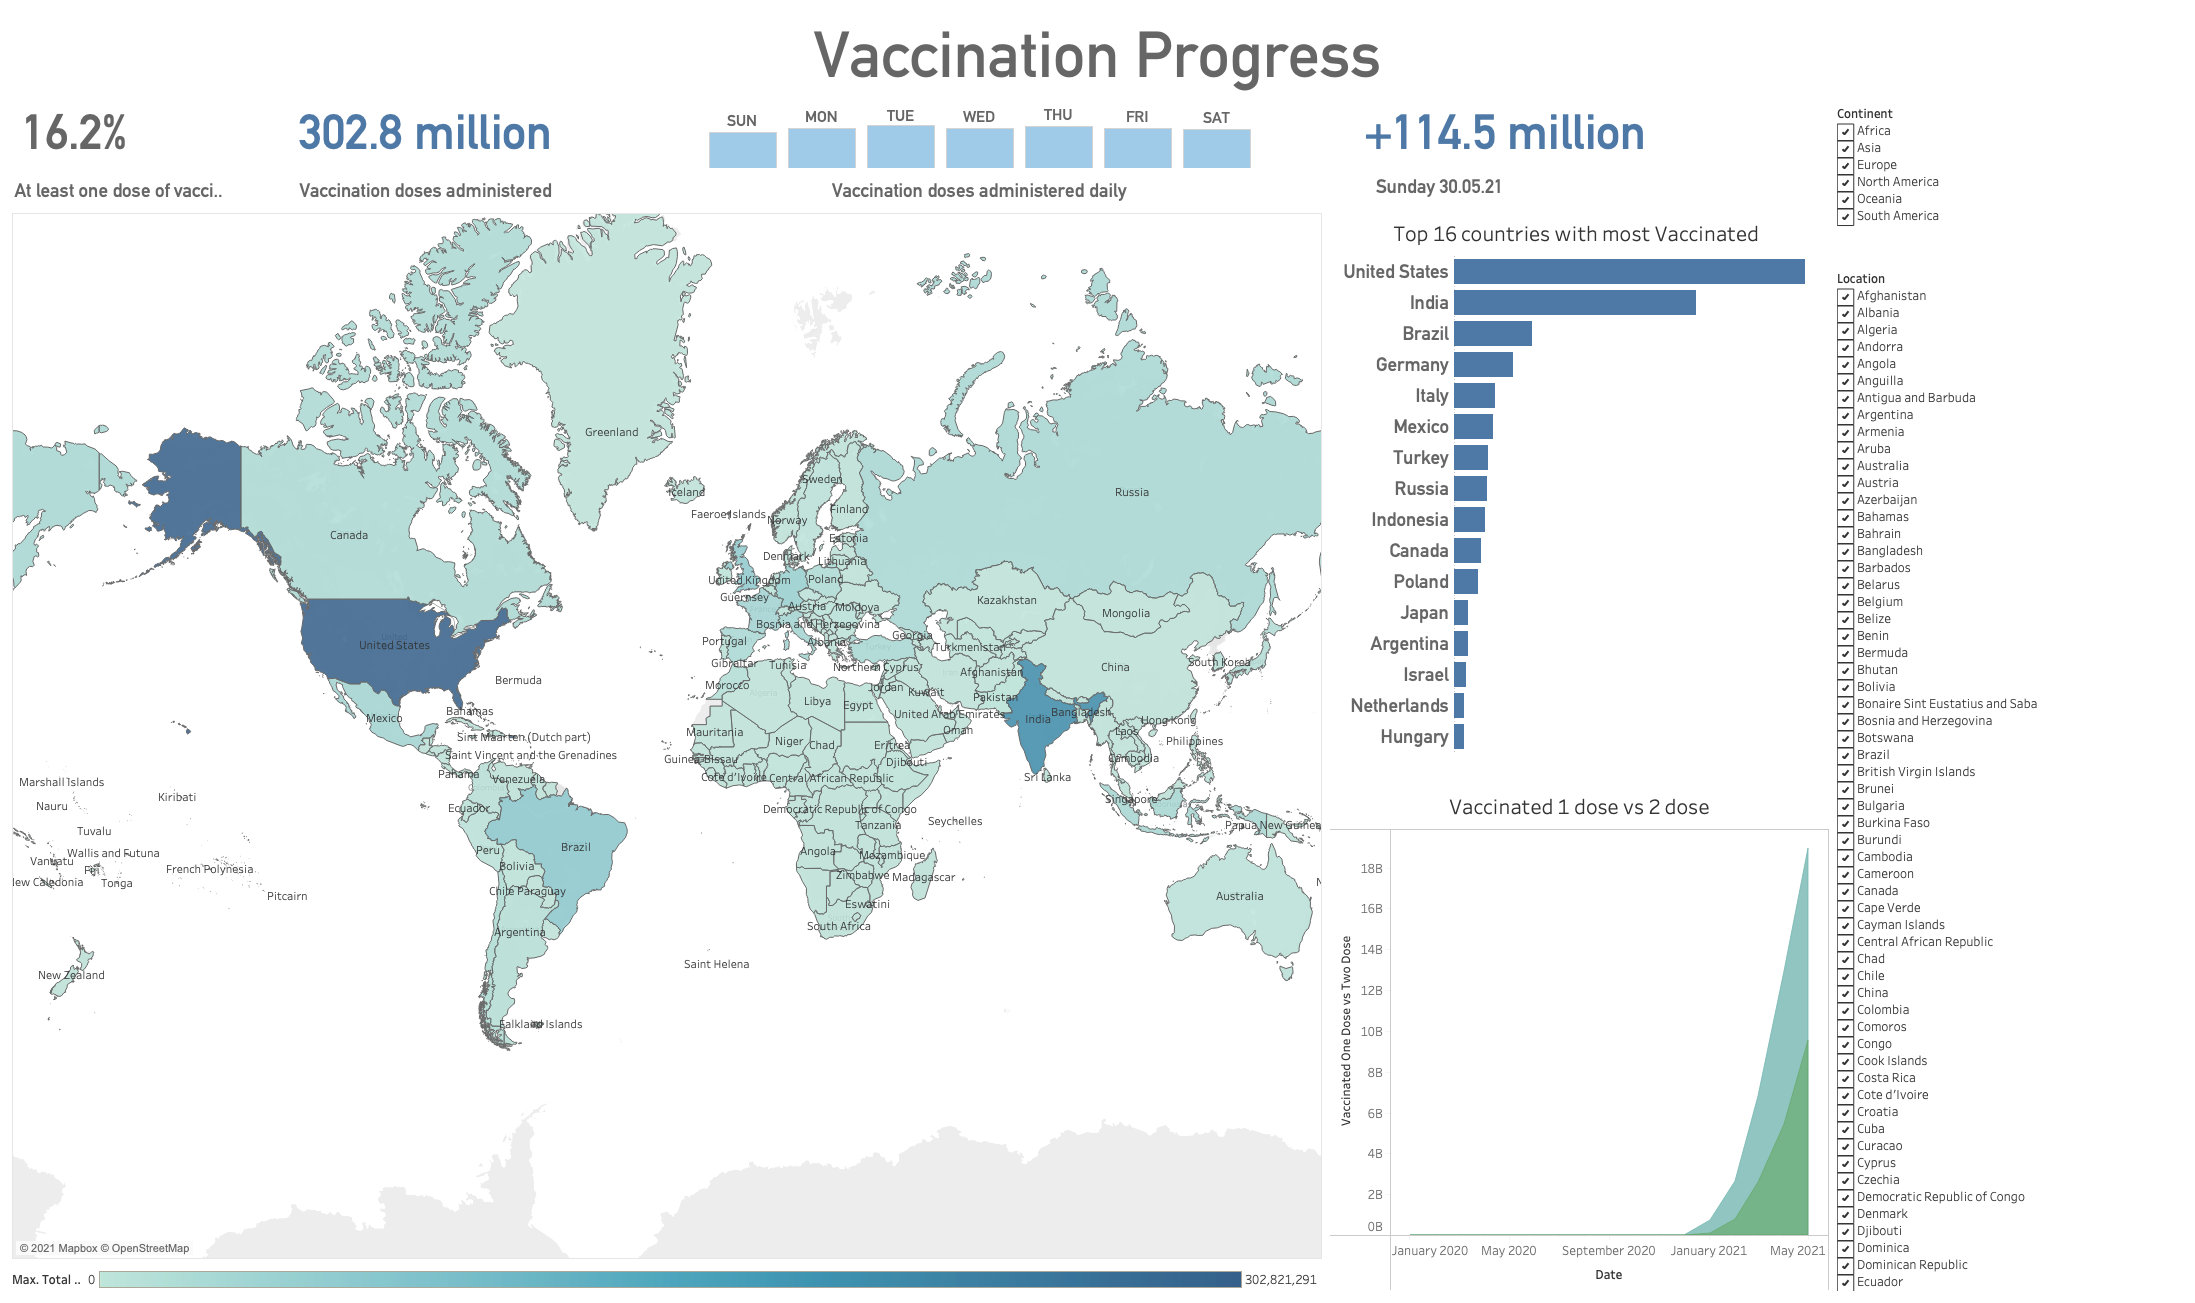

What the dashboard file says about the page in this screenshot:
{"tool":"tableau","page":{"name":"Dashboard 1","canvas":[1000,1000],"units":"permille","ordinal":0},"visuals":[{"type":"worksheet","box":[0,0,1000,1000]},{"type":"worksheet","box":[3.6,6.1,992.7,70.6]},{"type":"worksheet","param":"vert","box":[3.6,76.8,992.7,917.1]},{"type":"worksheet","box":[3.6,76.8,992.7,917.1]},{"type":"worksheet","param":"horz","box":[3.6,76.8,831.6,917.1]},{"type":"worksheet","box":[3.6,76.8,831.6,917.1]},{"type":"worksheet","title":"One Dose %","mark":"Automatic","box":[3.6,76.8,84.4,55.2]},{"type":"worksheet","box":[88.1,76.8,36.5,55.2]},{"type":"worksheet","title":"Total Doses Administered","mark":"Automatic","box":[124.6,76.8,194,55.2]},{"type":"worksheet","title":"Doses Administered Daily (1 week)","mark":"Automatic","rows":["total_vaccinated"],"cols":["week_day"],"box":[318.5,76.8,255.5,55.2]},{"type":"worksheet","box":[574.1,76.8,39.6,55.2]},{"type":"worksheet","title":"Newly vaccinated","mark":"Automatic","box":[613.7,76.8,221.6,55.2]},{"type":"worksheet","param":"vert","box":[835.2,76.8,161.1,917.1]},{"type":"worksheet","title":"Total Doses Administered","mark":"Automatic","param":"[federated.0aoevrx14gdg4c1c4bs981v7try1].[none:continent:nk]","box":[835.2,76.8,161.1,126.6]},{"type":"worksheet","box":[3.6,132,102.9,28.2]},{"type":"worksheet","box":[106.5,132,26.8,28.2]},{"type":"worksheet","box":[133.4,132,185.2,28.2]},{"type":"worksheet","box":[318.5,132,255.6,28.2]},{"type":"worksheet","box":[574.1,132,47.5,28.2]},{"type":"worksheet","param":"horz","box":[621.6,132,213.6,28.2]},{"type":"worksheet","title":"Max date","mark":"Automatic","box":[621.6,132,213.6,23.8]},{"type":"worksheet","box":[3.6,160.1,831.6,833.8]},{"type":"worksheet","param":"vert","box":[3.6,160.1,600.5,833.8]},{"type":"worksheet","title":"World Map","mark":"Multipolygon","box":[3.6,160.1,600.5,809.2]},{"type":"worksheet","param":"horz","box":[604.1,160.1,231.1,833.8]},{"type":"worksheet","param":"vert","box":[604.1,160.1,231.1,833.8]},{"type":"worksheet","title":"Top 16","mark":"Automatic","rows":["location"],"cols":["Calculation_2583518124482310145"],"box":[604.1,160.1,231.1,439.8]},{"type":"worksheet","title":"Total Doses Administered","mark":"Automatic","param":"[federated.0aoevrx14gdg4c1c4bs981v7try1].[none:location:nk]","box":[835.2,203.4,161.1,790.5]},{"type":"worksheet","title":"Vaccinated 1 dose vs 2 dose","mark":"Area","rows":["vaccinated_one_dose","vaccinated_two_dose"],"cols":["date"],"box":[604.1,599.9,231.1,394]},{"type":"worksheet","title":"World Map","mark":"Multipolygon","param":"[federated.0aoevrx14gdg4c1c4bs981v7try1].[max:total_vaccinated:qk]","box":[3.6,969.3,600.5,24.6]}]}

Visuals, with their boxes on the dashboard's canvas, which has no fixed pixel size, in thousandths of its width and height (x1, y1, x2, y2). These are canvas units, not pixel positions in the 2195x1303 screenshot, which may show the page scaled, cropped or inside an application window:
worksheet: x1=0 y1=0 x2=1000 y2=1000
worksheet: x1=4 y1=6 x2=996 y2=77
worksheet: x1=4 y1=77 x2=996 y2=994
worksheet: x1=4 y1=77 x2=996 y2=994
worksheet: x1=4 y1=77 x2=835 y2=994
worksheet: x1=4 y1=77 x2=835 y2=994
"One Dose %" worksheet: x1=4 y1=77 x2=88 y2=132
worksheet: x1=88 y1=77 x2=125 y2=132
"Total Doses Administered" worksheet: x1=125 y1=77 x2=319 y2=132
"Doses Administered Daily (1 week)" worksheet: x1=318 y1=77 x2=574 y2=132
worksheet: x1=574 y1=77 x2=614 y2=132
"Newly vaccinated" worksheet: x1=614 y1=77 x2=835 y2=132
worksheet: x1=835 y1=77 x2=996 y2=994
"Total Doses Administered" worksheet: x1=835 y1=77 x2=996 y2=203
worksheet: x1=4 y1=132 x2=106 y2=160
worksheet: x1=106 y1=132 x2=133 y2=160
worksheet: x1=133 y1=132 x2=319 y2=160
worksheet: x1=318 y1=132 x2=574 y2=160
worksheet: x1=574 y1=132 x2=622 y2=160
worksheet: x1=622 y1=132 x2=835 y2=160
"Max date" worksheet: x1=622 y1=132 x2=835 y2=156
worksheet: x1=4 y1=160 x2=835 y2=994
worksheet: x1=4 y1=160 x2=604 y2=994
"World Map" worksheet (Multipolygon marks): x1=4 y1=160 x2=604 y2=969
worksheet: x1=604 y1=160 x2=835 y2=994
worksheet: x1=604 y1=160 x2=835 y2=994
"Top 16" worksheet: x1=604 y1=160 x2=835 y2=600
"Total Doses Administered" worksheet: x1=835 y1=203 x2=996 y2=994
"Vaccinated 1 dose vs 2 dose" worksheet (Area marks): x1=604 y1=600 x2=835 y2=994
"World Map" worksheet (Multipolygon marks): x1=4 y1=969 x2=604 y2=994
